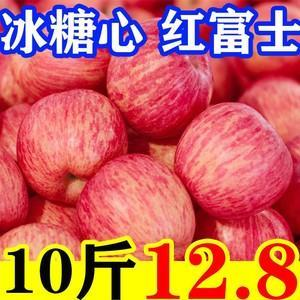apple: (172, 99, 294, 220), (17, 89, 130, 205), (74, 152, 196, 239), (108, 53, 213, 135)
